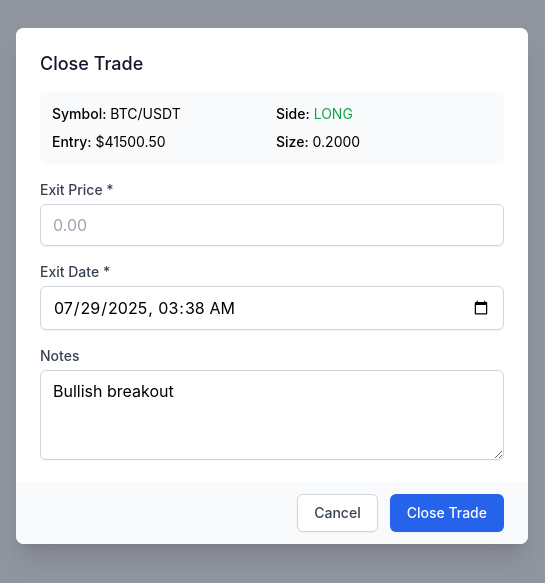
it: CloseTradeModal › should show validation error for missing exit price
The width and height of the screenshot is (545, 583).
Click the button "Close Trade" at (447, 513), box [390,494,504,532]
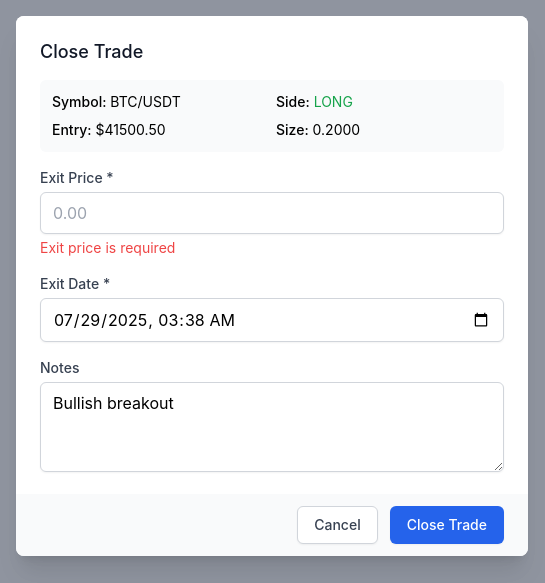
Expected: the text "Exit price is required" is shown, [40,239,175,256]
